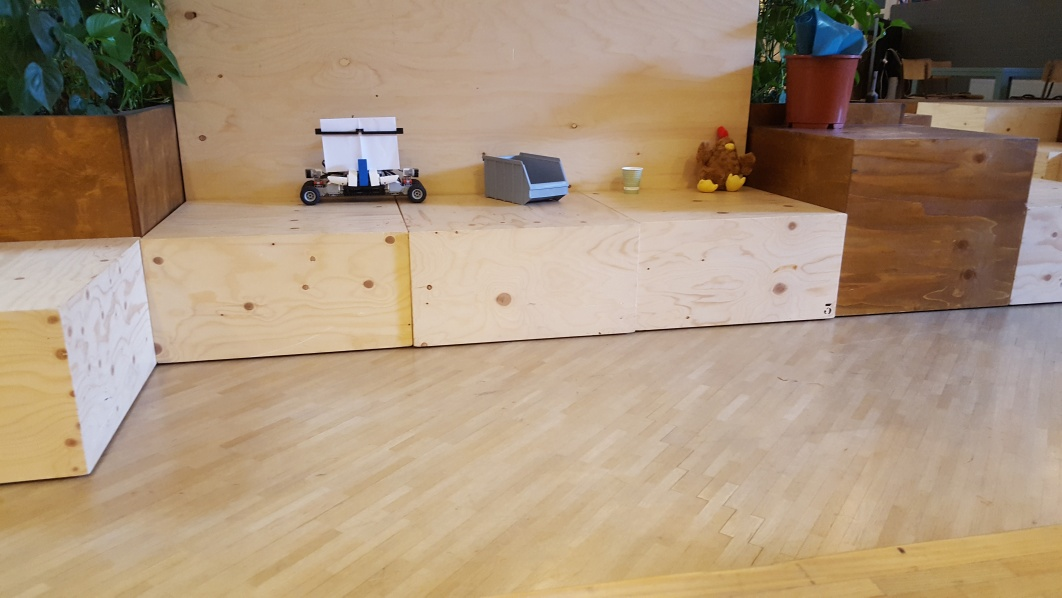car: (298, 115, 429, 204)
chicken: (694, 127, 755, 194)
cup: (621, 165, 642, 193)
tray: (473, 151, 572, 202)
